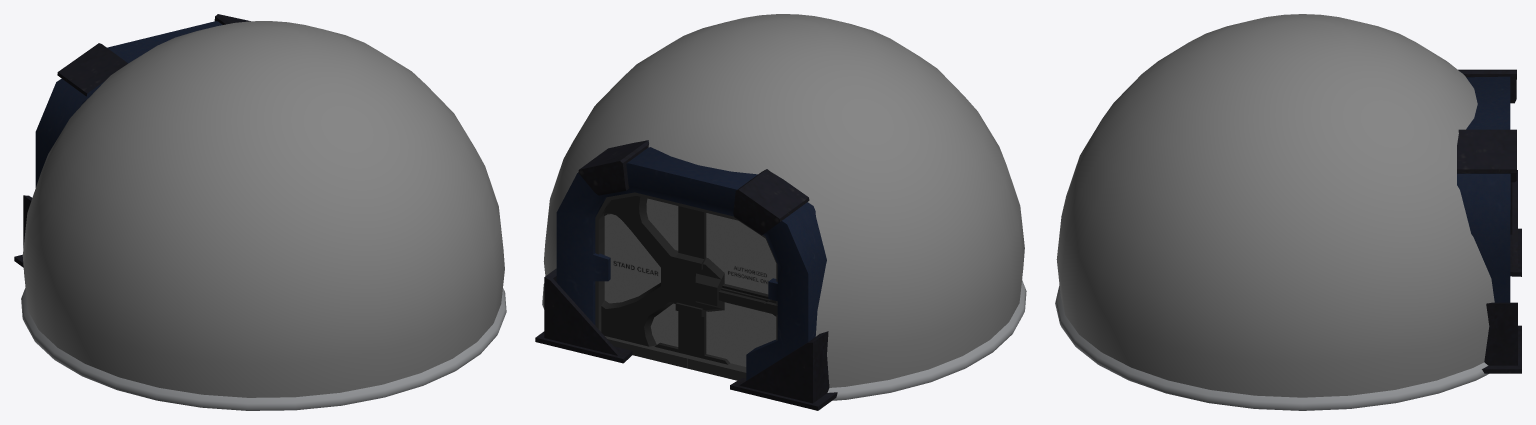
The model's file is DomeSmall.fbx.
3 renders of one model, left to right at view 1: azimuth 30°, elevation 25°; view 2: azimuth 150°, elevation 25°; view 3: azimuth 270°, elevation 25°, orthographic.
Visible parts, largest first — view 1: DoomSM-L0; view 2: DoomSM-L0; view 3: DoomSM-L0.
Boxes of the visible parts, <box> form: DoomSM-L0: <box>14,14,506,410</box>; DoomSM-L0: <box>535,14,1026,410</box>; DoomSM-L0: <box>1055,14,1521,410</box>.
Size of the model in its own units: 10.63 by 6.41 by 10.03.
2 materials, 1 textured.
